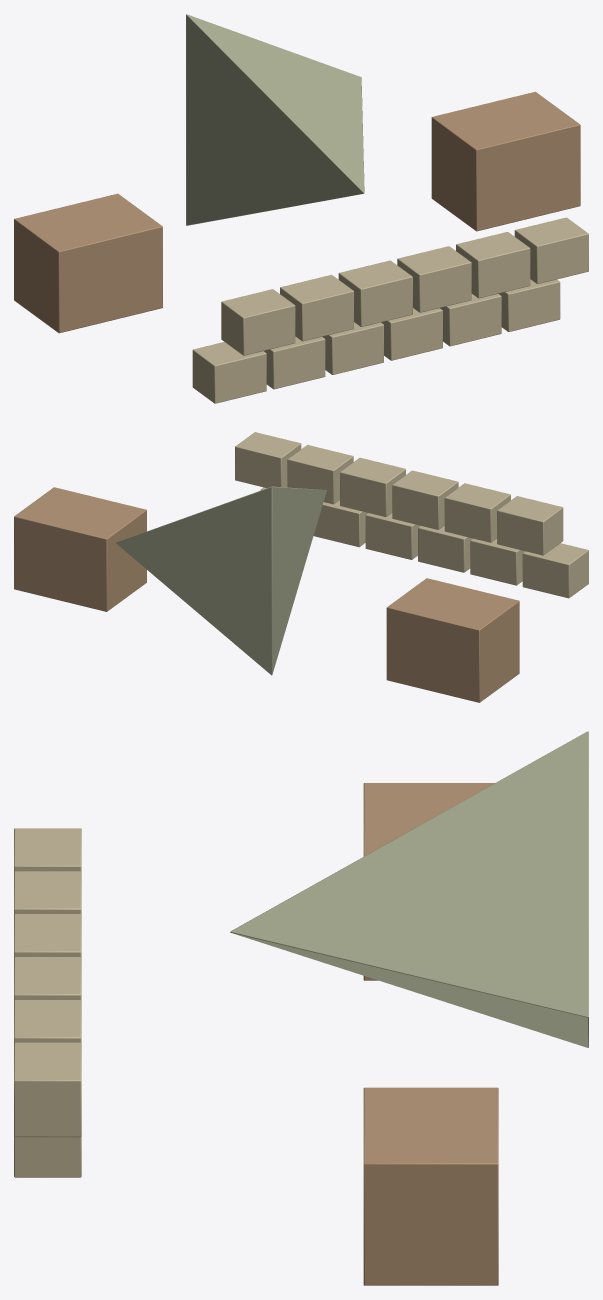
Rendered from SM_VAN_OUT_ForwardPost.fbx.
The picture shows the model from 3 angles, top to bottom: view 1: azimuth 30°, elevation 25°; view 2: azimuth 150°, elevation 25°; view 3: azimuth 270°, elevation 25°; orthographic projection. The views are drawn at different scales.
Visible parts, largest first — view 1: SM_VAN_OUT_ForwardPost; view 2: SM_VAN_OUT_ForwardPost; view 3: SM_VAN_OUT_ForwardPost.
Boxes of the visible parts, x1,y1,x2,y2 form: SM_VAN_OUT_ForwardPost: (14, 14, 588, 403); SM_VAN_OUT_ForwardPost: (14, 432, 588, 702); SM_VAN_OUT_ForwardPost: (14, 731, 588, 1285).
Size of what is drawn, in the model's own units: 4 by 1.57 by 2.55.
